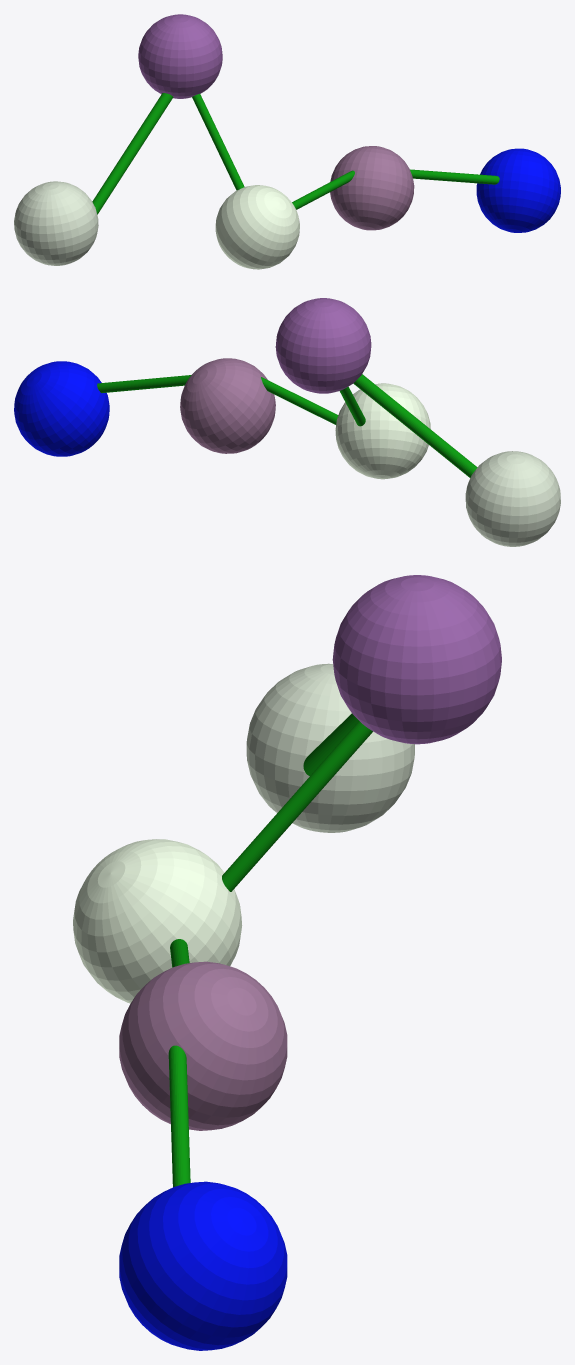
Rendered from molecule3.gltf.
The picture shows the model from 3 angles, top to bottom: view 1: azimuth 30°, elevation 25°; view 2: azimuth 150°, elevation 25°; view 3: azimuth 270°, elevation 25°; orthographic projection. The views are drawn at different scales.
Parts seen in each view (by area): view 1: Sphère, Sphère.001, Sphère.002, Sphère.004, Sphère.003, Cylindre, Cylindre.001, Cylindre.003, Cylindre.002; view 2: Sphère.002, Sphère, Sphère.004, Sphère.003, Sphère.001, Cylindre, Cylindre.003, Cylindre.002, Cylindre.001; view 3: Sphère.004, Sphère.002, Sphère.003, Sphère.001, Sphère, Cylindre.001, Cylindre.003, Cylindre.
Boxes of the visible parts, box(x1,y1,x2,y2) form: Sphère: box(14, 181, 98, 265); Sphère.001: box(215, 185, 299, 269); Sphère.002: box(138, 14, 222, 98); Sphère.004: box(476, 148, 560, 232); Sphère.003: box(330, 146, 414, 230); Cylindre: box(92, 93, 173, 214); Cylindre.001: box(192, 94, 244, 190); Cylindre.003: box(410, 169, 499, 184); Cylindre.002: box(292, 170, 354, 209); Sphère.002: box(275, 298, 371, 393); Sphère: box(465, 451, 560, 546); Sphère.004: box(14, 361, 109, 456); Sphère.003: box(180, 358, 275, 453); Sphère.001: box(335, 383, 430, 479); Cylindre: box(353, 374, 477, 477); Cylindre.003: box(97, 375, 191, 392); Cylindre.002: box(261, 377, 338, 424); Cylindre.001: box(339, 386, 365, 426); Sphère.004: box(119, 1181, 287, 1350); Sphère.002: box(332, 575, 501, 744); Sphère.003: box(119, 961, 287, 1130); Sphère.001: box(73, 839, 242, 1003); Sphère: box(246, 663, 414, 832); Cylindre.001: box(222, 721, 372, 891); Cylindre.003: box(168, 1045, 190, 1187); Cylindre: box(303, 713, 358, 775).
Bounding box in the file's own units: 13.73 × 6.28 × 5.07.
